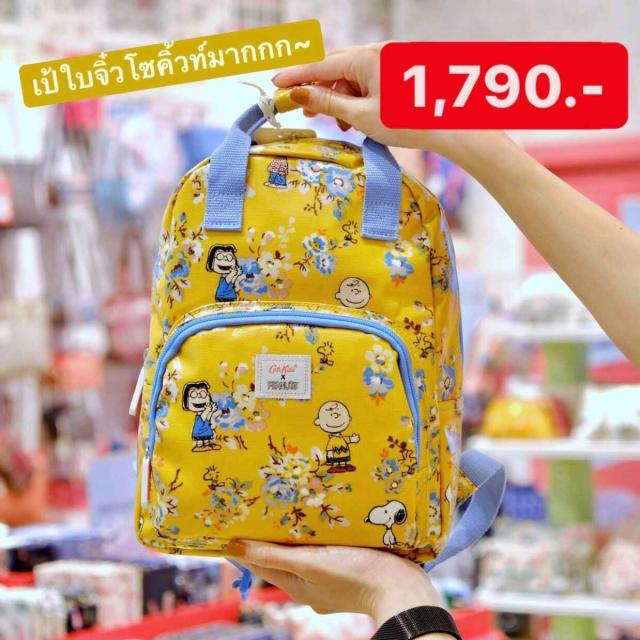handbag: (128, 143, 468, 570)
